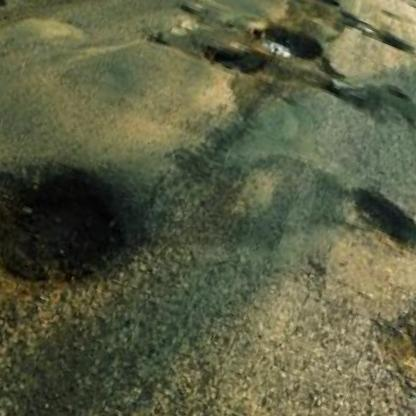pothole: (0, 126, 156, 327), (337, 181, 416, 265), (247, 12, 328, 72), (196, 28, 272, 88), (311, 58, 378, 114), (387, 289, 416, 404), (379, 32, 408, 51), (307, 0, 341, 13)
